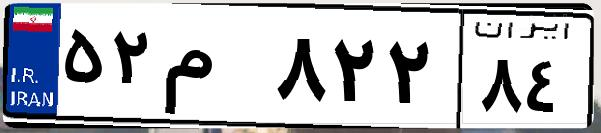2: (385, 28, 445, 110), (330, 28, 385, 110), (110, 28, 158, 98)
4: (525, 38, 570, 115)
5: (57, 26, 110, 100)
8: (270, 28, 330, 110), (475, 38, 525, 113)
م: (158, 20, 270, 120)
